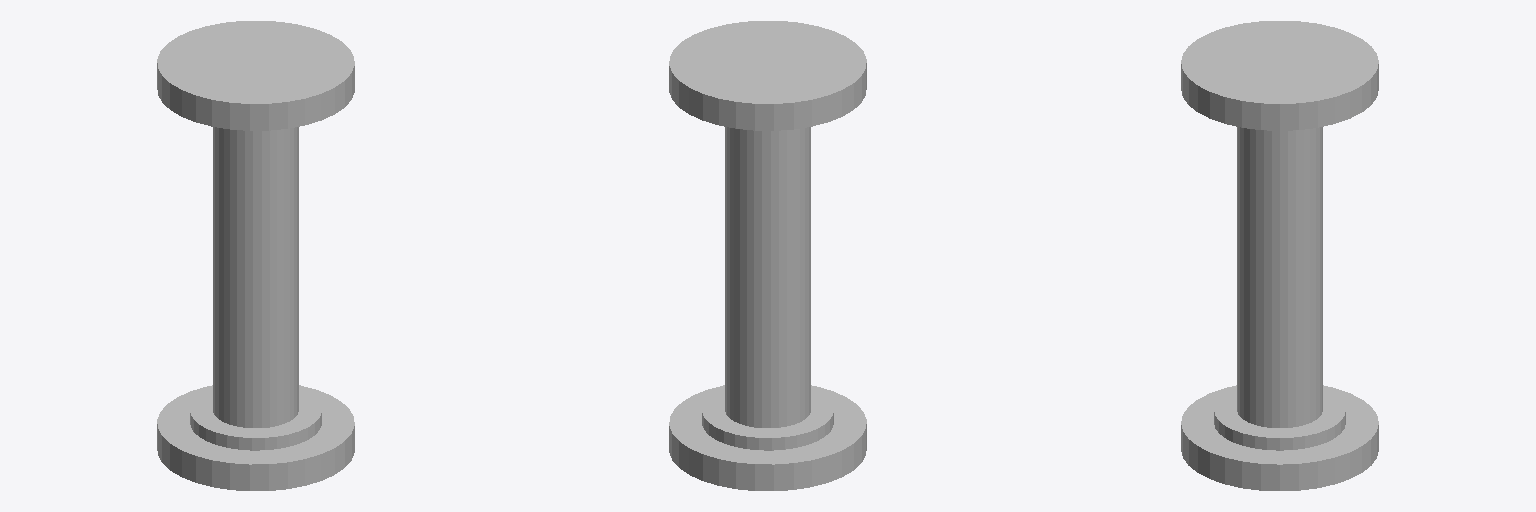
Rendered from pillier.obj.
3 renders of one model, left to right at view 1: azimuth 30°, elevation 25°; view 2: azimuth 150°, elevation 25°; view 3: azimuth 270°, elevation 25°, orthographic.
Visible parts, largest first — view 1: Cylindre.002; view 2: Cylindre.002; view 3: Cylindre.002.
Boxes of the visible parts, <box> form: Cylindre.002: <box>157,21,354,490</box>; Cylindre.002: <box>669,21,866,490</box>; Cylindre.002: <box>1181,21,1378,490</box>.
Size of the model in its own units: 0.75 by 1.62 by 0.75.